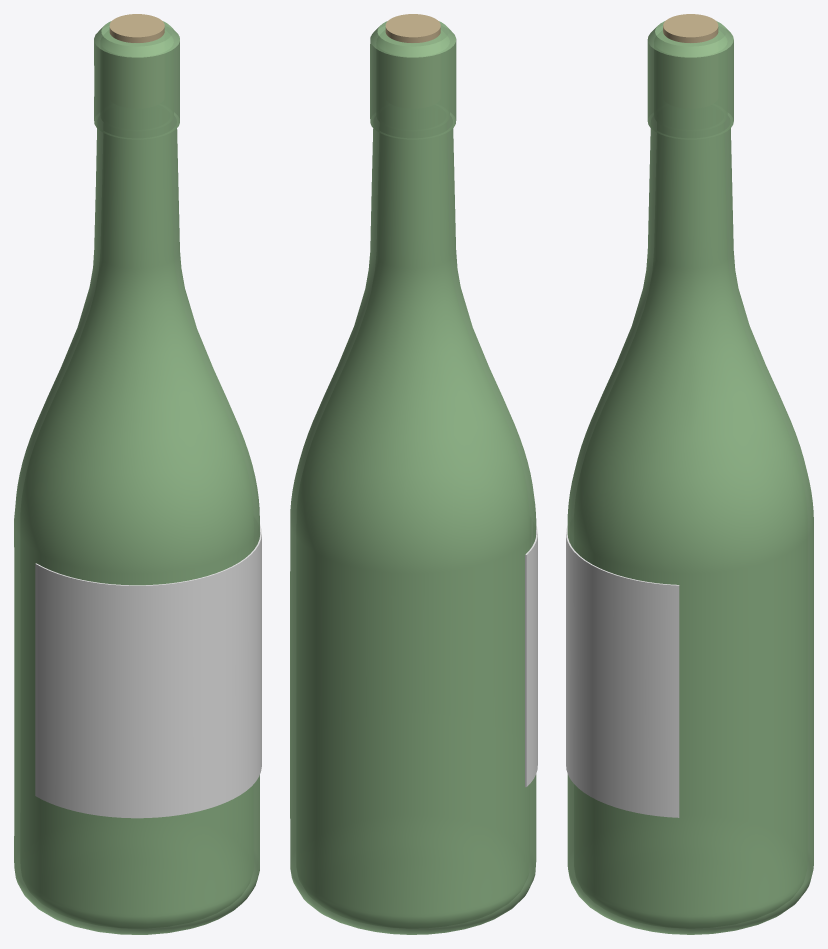
File: 887_winebottle.fbx
3 renders of one model, left to right at view 1: azimuth 30°, elevation 25°; view 2: azimuth 150°, elevation 25°; view 3: azimuth 270°, elevation 25°, orthographic.
Visible parts, largest first — view 1: Body, label, huta; view 2: Body, label, huta; view 3: Body, label, huta.
Part boxes in pixels (x1=…): Body: x1=14, y1=21, x2=259, y2=934; label: x1=35, y1=524, x2=261, y2=818; huta: x1=109, y1=14, x2=164, y2=42; Body: x1=290, y1=21, x2=536, y2=934; label: x1=525, y1=526, x2=537, y2=787; huta: x1=385, y1=14, x2=440, y2=42; Body: x1=567, y1=21, x2=813, y2=934; label: x1=566, y1=525, x2=679, y2=817; huta: x1=663, y1=14, x2=718, y2=43.
Bounding box in the file's own units: 7.88 × 30.38 × 7.87.
